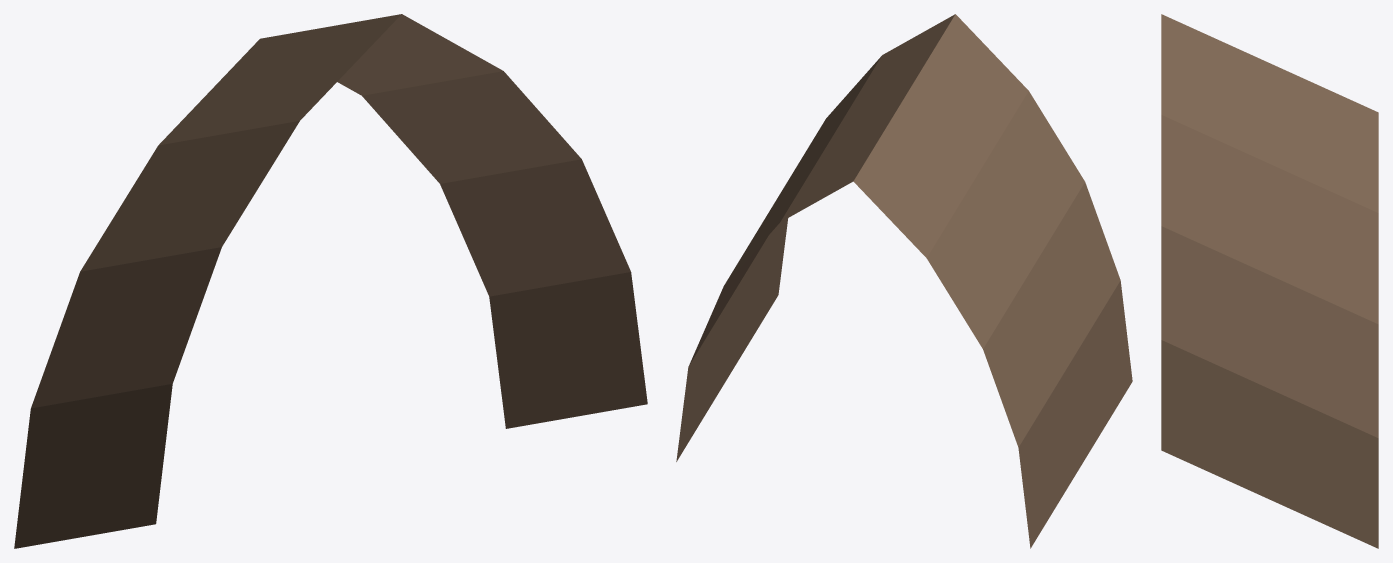
File: ceiling_stairs.fbx
3 views of the same model, side by side, from view 1: azimuth 30°, elevation 25°; view 2: azimuth 150°, elevation 25°; view 3: azimuth 270°, elevation 25° (orthographic). The views are drawn at different scales.
Parts seen in each view (by area): view 1: ceiling_stairs_R, ceiling_stairs_L; view 2: ceiling_stairs_R, ceiling_stairs_L; view 3: ceiling_stairs_L.
Boxes of the visible parts, x1,y1,x2,y2 form: ceiling_stairs_R: (14, 14, 401, 548); ceiling_stairs_L: (337, 14, 647, 428); ceiling_stairs_R: (853, 14, 1132, 548); ceiling_stairs_L: (676, 14, 955, 461); ceiling_stairs_L: (1161, 14, 1378, 548).
Size of the model in its own units: 400 by 450 by 200.
